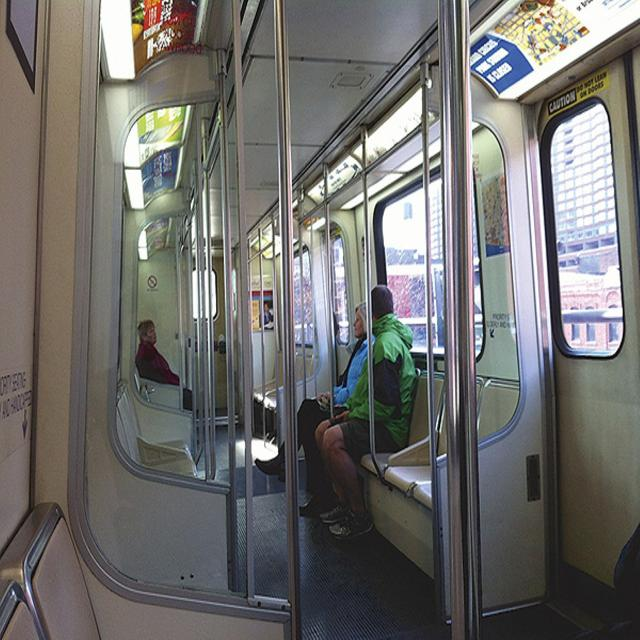body: (312, 282, 420, 544), (254, 300, 376, 520), (135, 319, 181, 386), (255, 296, 275, 337)
